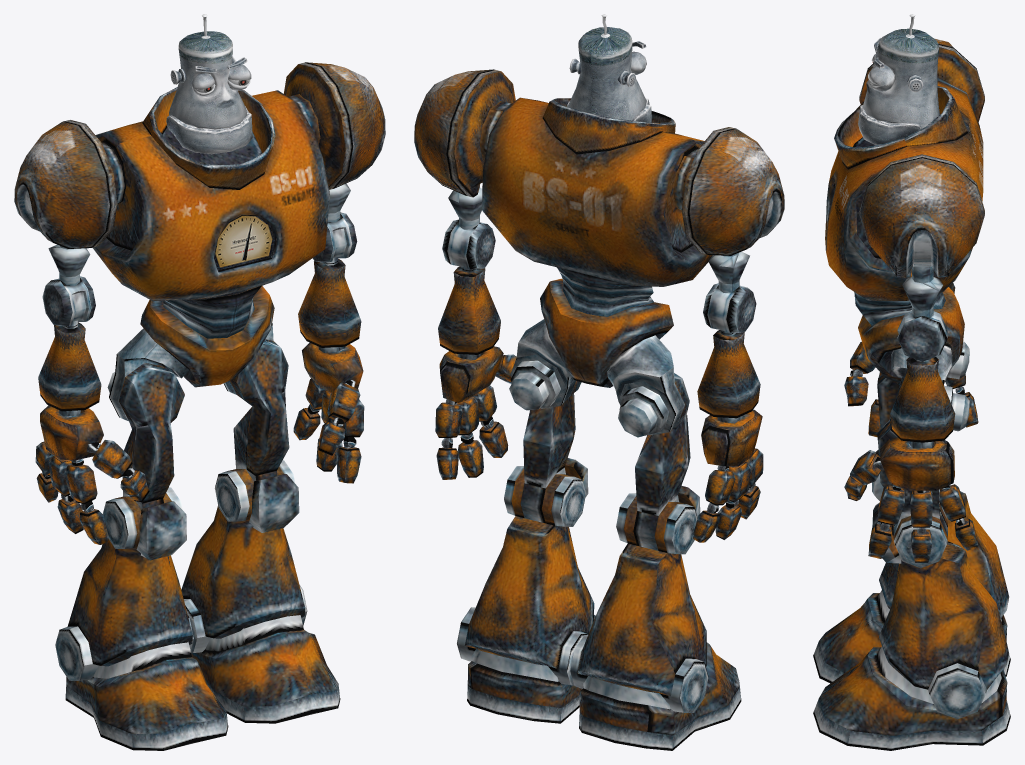
The model's file is robot.glb.
3 views of the same model, side by side, from view 1: azimuth 30°, elevation 25°; view 2: azimuth 150°, elevation 25°; view 3: azimuth 270°, elevation 25° (orthographic).
Parts seen in each view (by area): view 1: robot; view 2: robot; view 3: robot.
Boxes of the visible parts, box(x1,y1,x2,y2) form: robot: box(14, 14, 385, 750); robot: box(414, 14, 784, 750); robot: box(813, 14, 1010, 750).
Bounding box in the file's own units: 3.34 × 6.22 × 1.63.
1 material, 1 textured.
